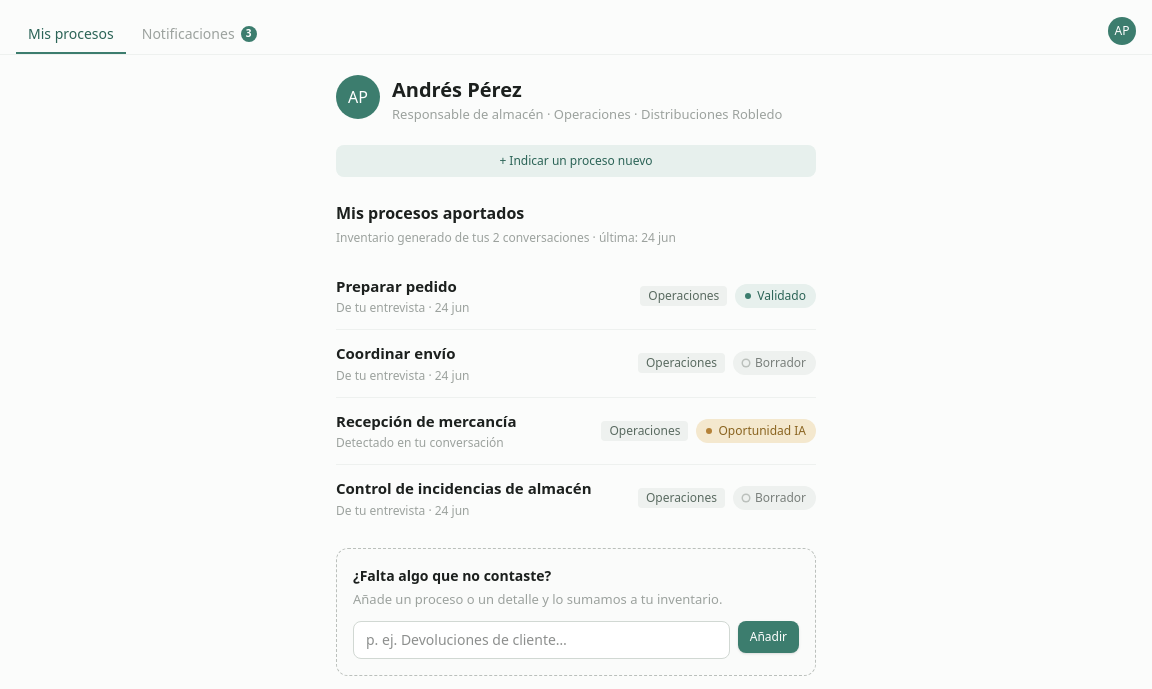
it: ProfileView › typing in AddProcessCard and clicking Añadir appends a 5th row
The width and height of the screenshot is (1152, 689).
Type "Gestión de devoluciones" into the field with placeholder "p. ej. Devoluciones de cliente…". click: (541, 640)
box: [353, 621, 730, 659]
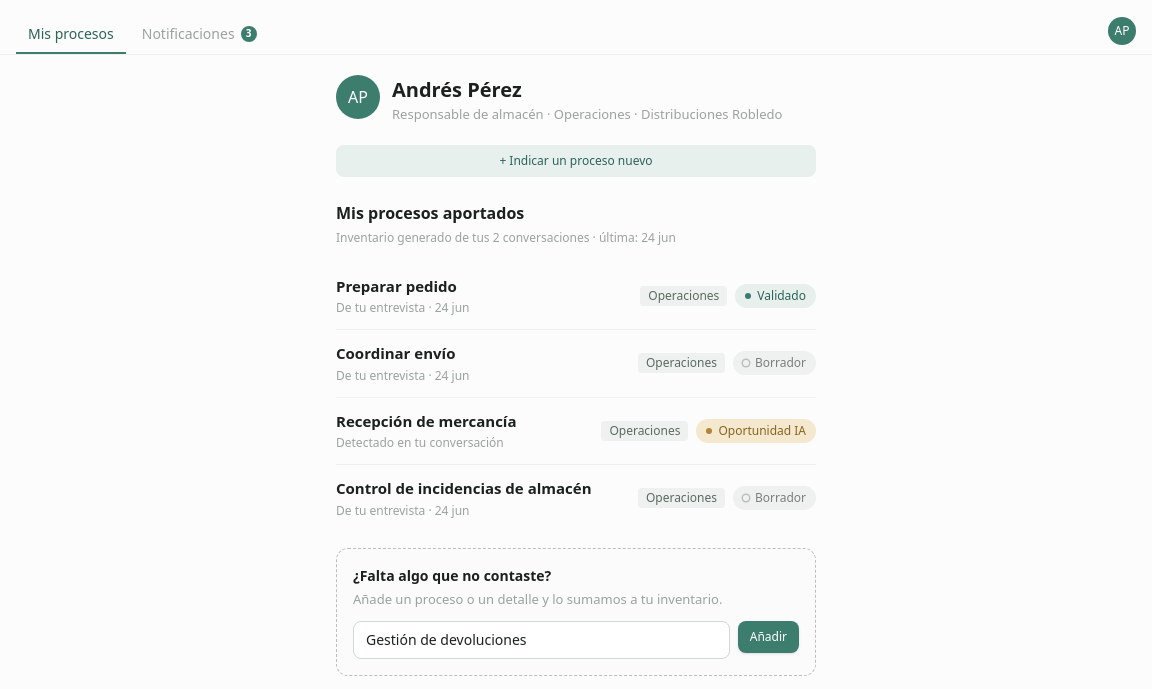
Click the button "Añadir". click: (768, 637)
box: [738, 621, 799, 653]
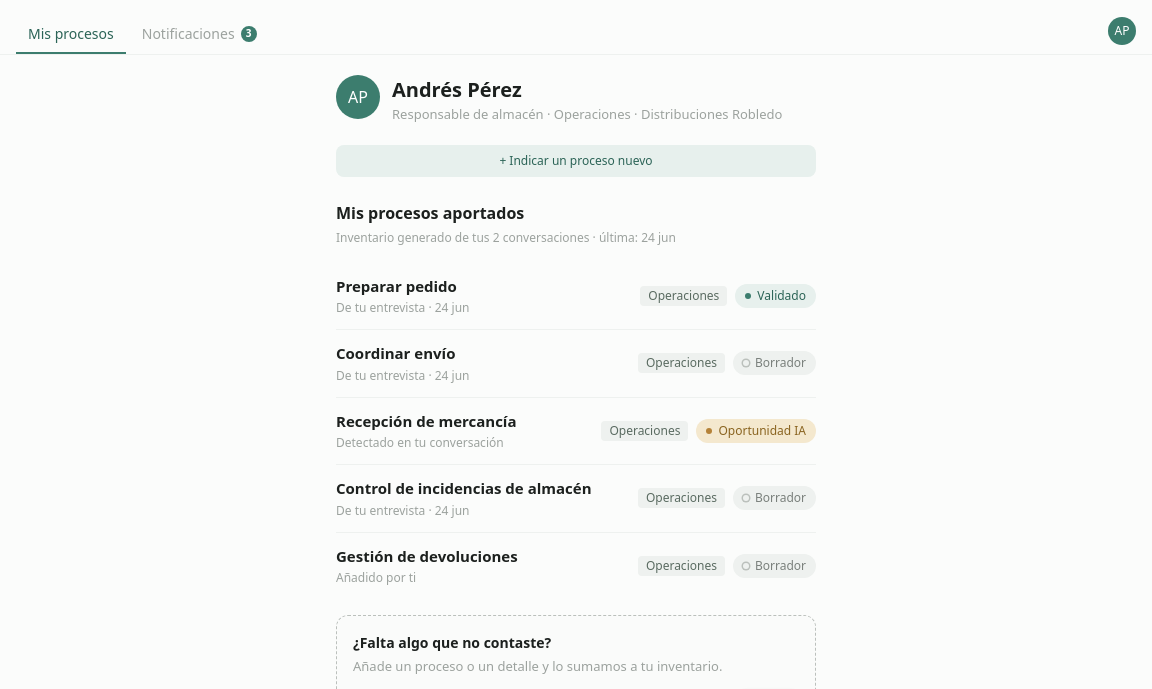
Expected: the text "Gestión de devoluciones" is shown, [336, 546, 518, 566]
